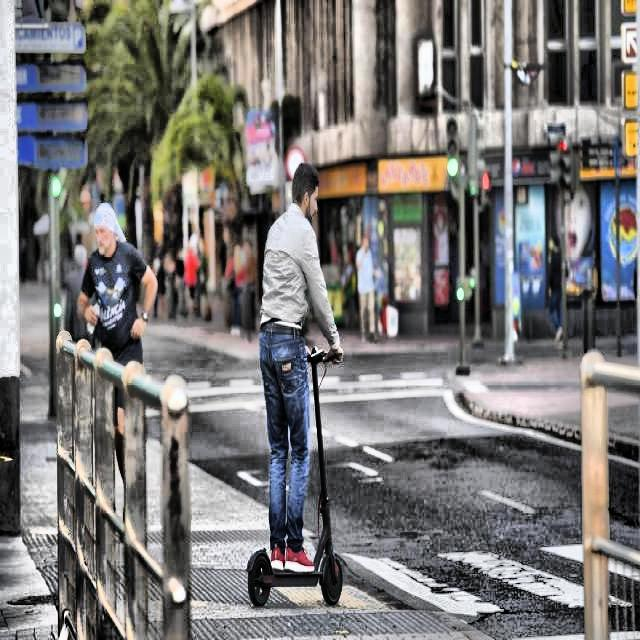bare_head: (290, 149, 346, 232)
human: (233, 156, 338, 561)
kickboard: (204, 523, 387, 612)
